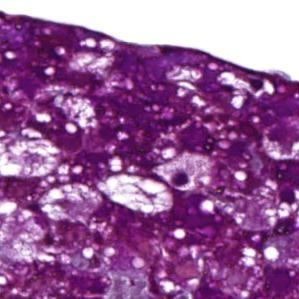ballooning: (94, 169, 175, 216), (3, 129, 60, 182), (52, 90, 100, 136)
